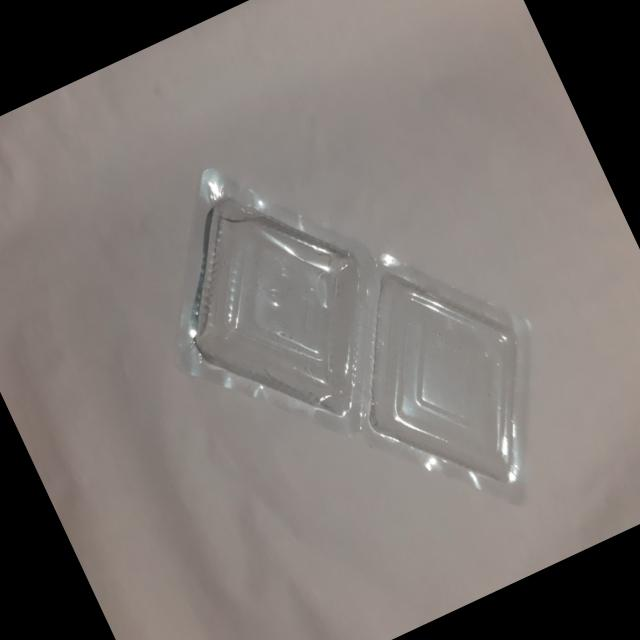KemasanPlastik: (106, 70, 597, 608)
